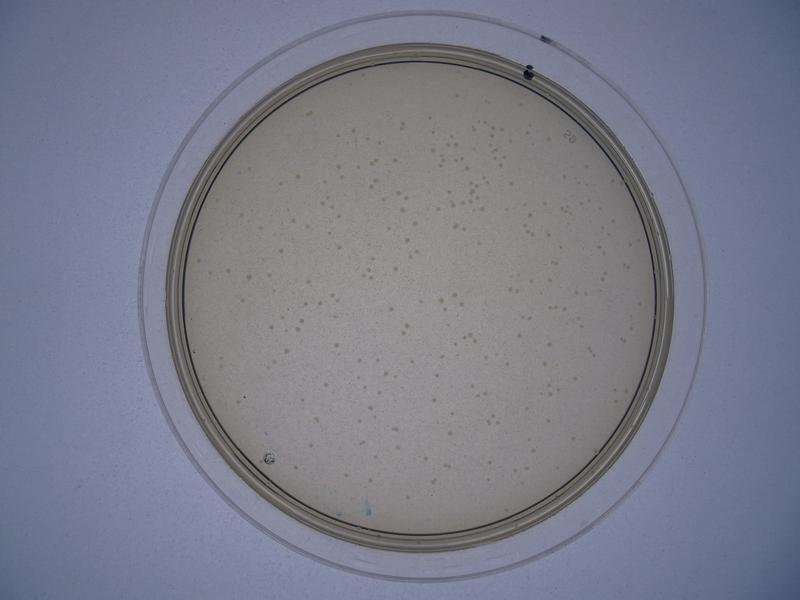colony: (288, 460, 305, 477), (361, 471, 377, 488), (425, 391, 440, 409), (510, 96, 529, 110), (502, 177, 519, 192), (361, 237, 376, 251), (291, 167, 304, 183), (413, 295, 427, 309), (279, 344, 292, 358), (390, 153, 403, 167), (442, 427, 456, 439), (221, 263, 232, 278), (450, 89, 462, 102)
